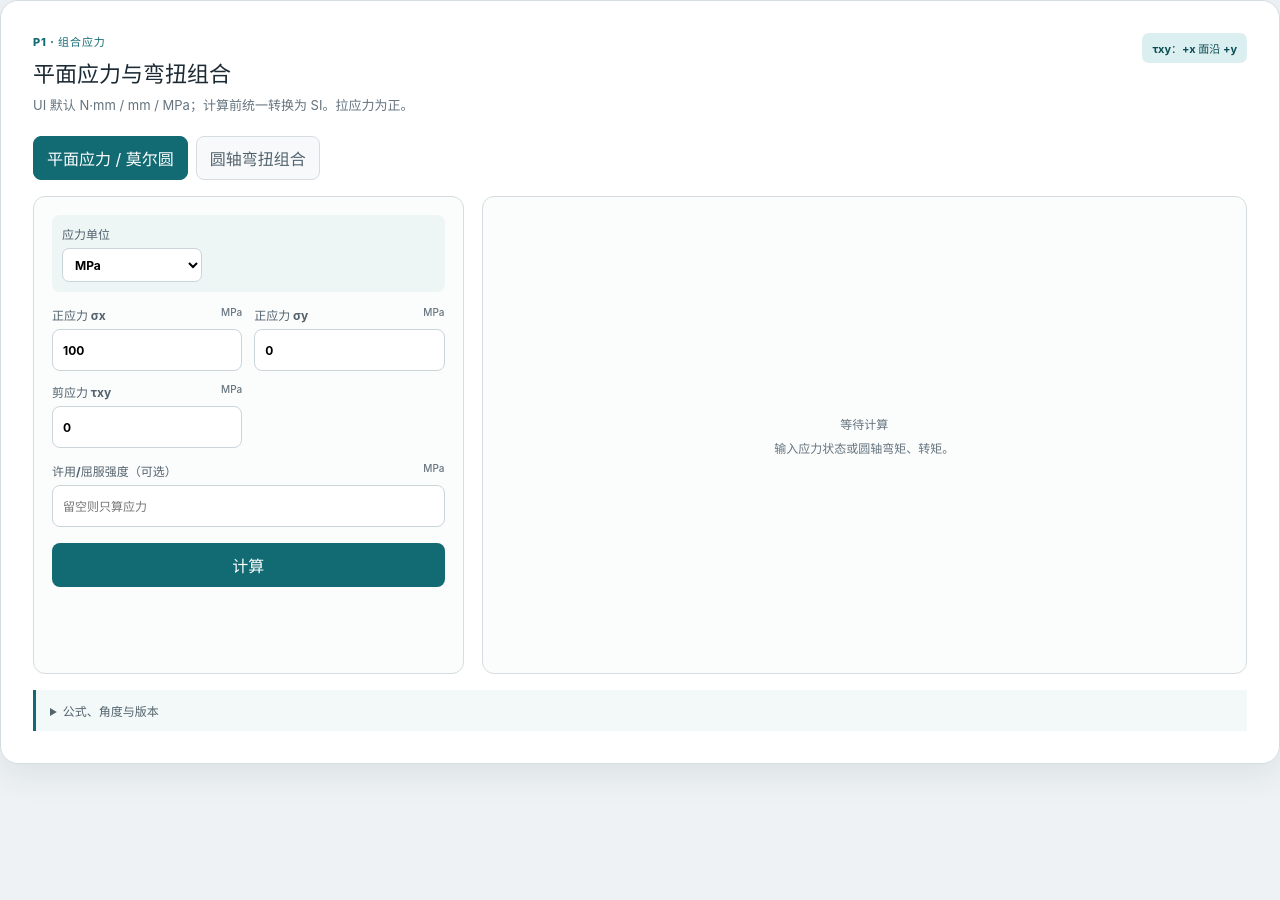
Test case: StressCalculator › shows strength overload and clears results on illegal geometry
The width and height of the screenshot is (1280, 900).
Click the button "圆轴弯扭组合". click: click(258, 158)
box: [196, 136, 320, 180]
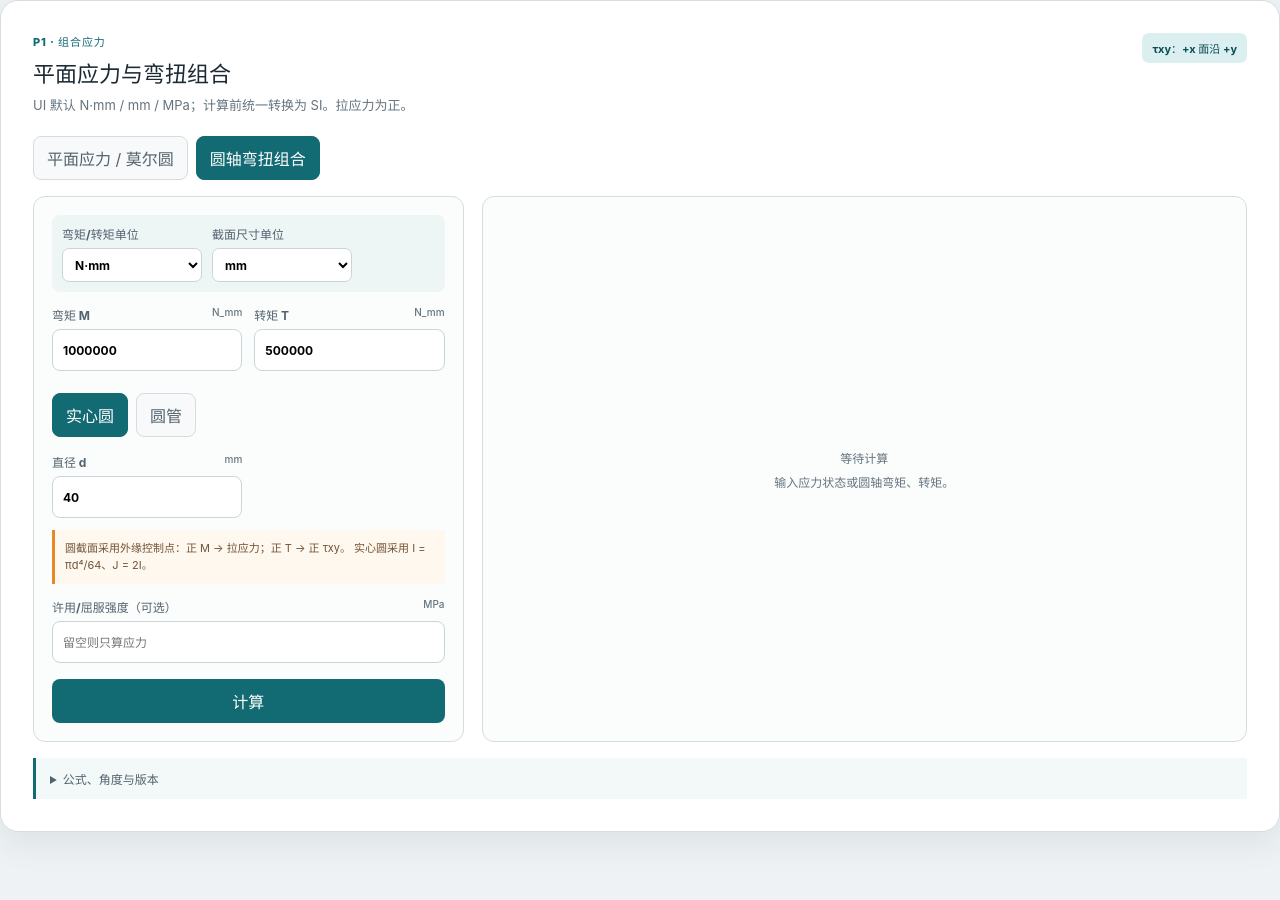
Type "10" into the field labelled "许用/屈服强度（可选） MPa". click: (248, 642)
box: [52, 621, 444, 663]
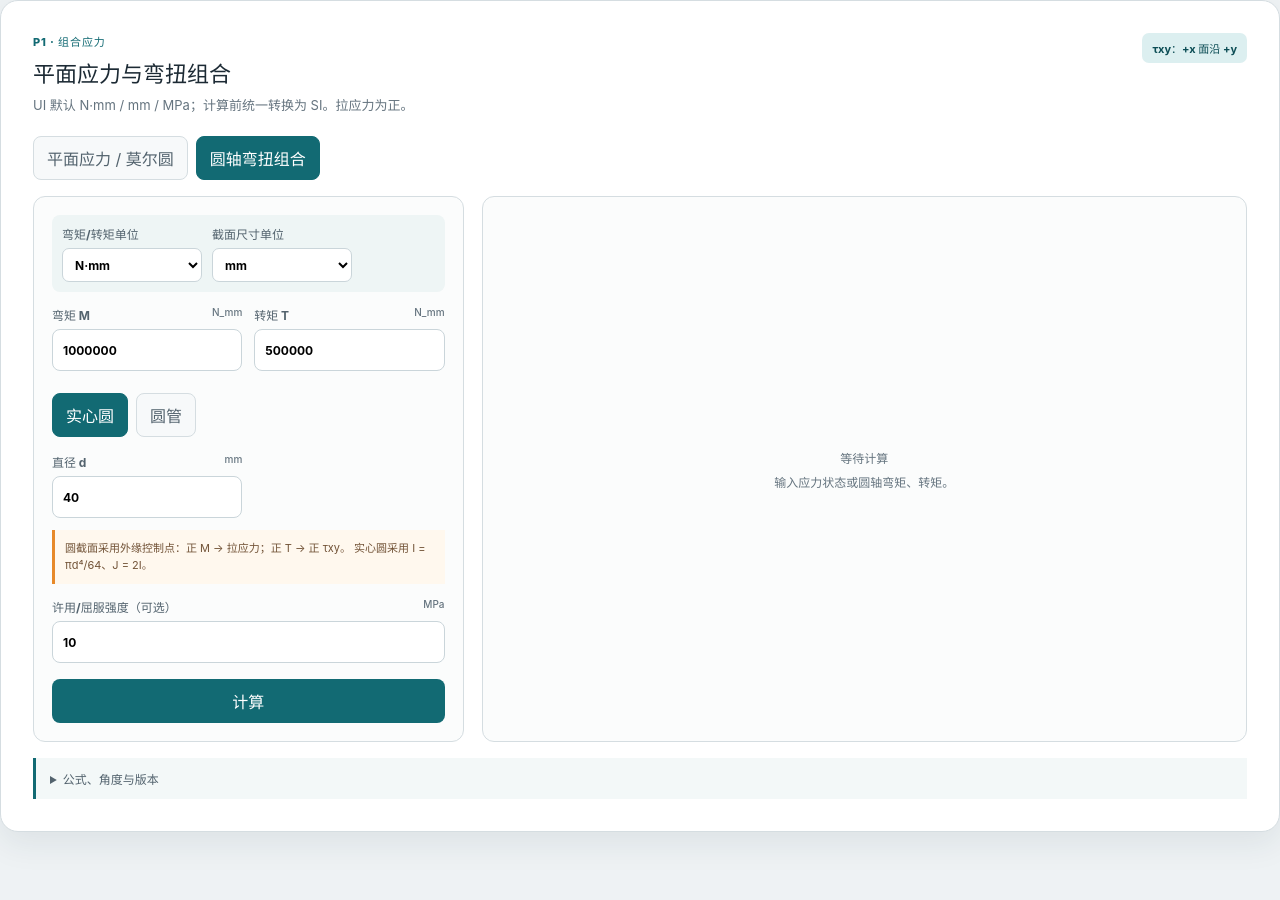
Click the button with class "calculate". click: click(248, 701)
box: [52, 679, 444, 723]
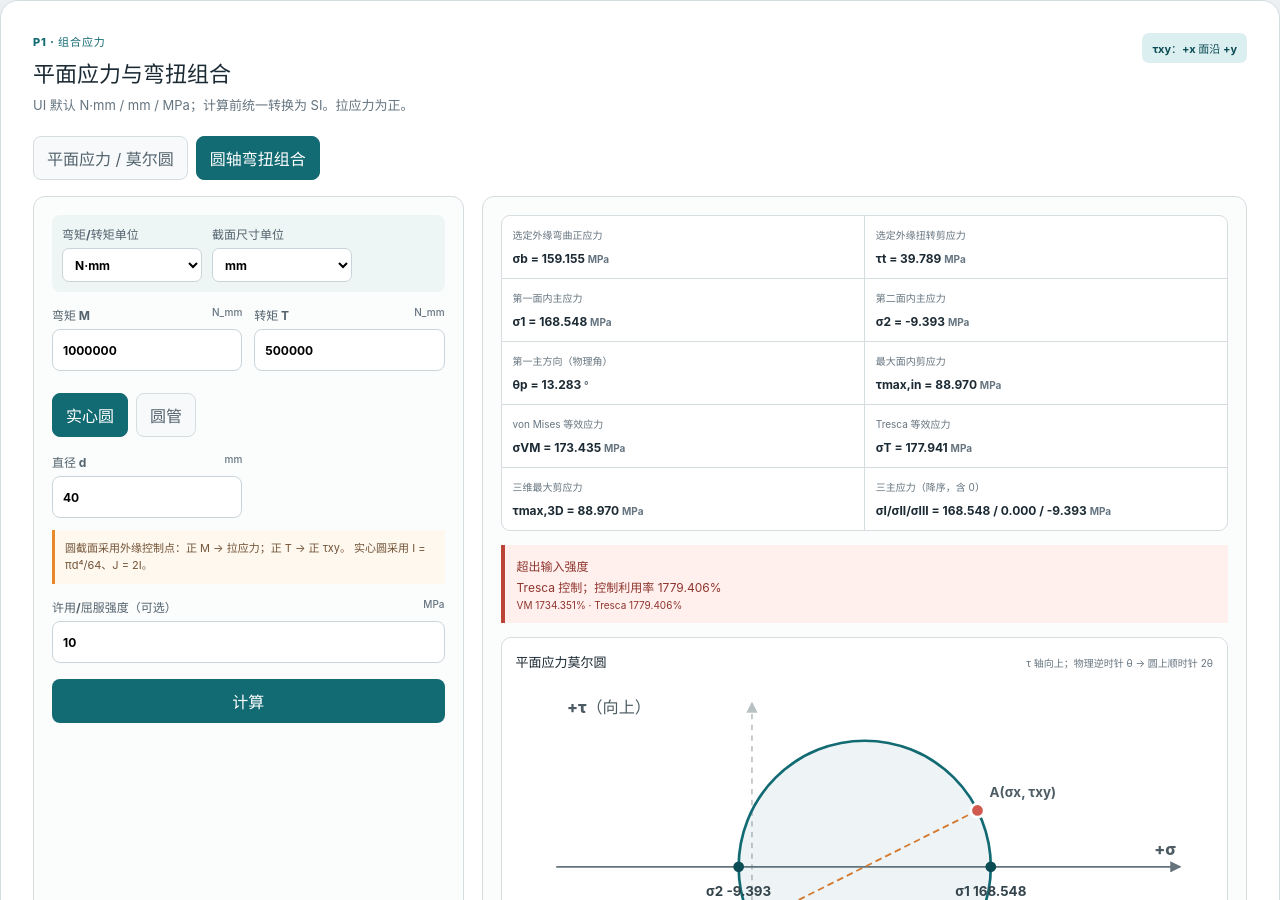
Expected: the text "超出输入强度" is shown, [516, 559, 588, 574]
Replace the text in the field labelled "直径 d mm" with "0". click: (147, 497)
box: [52, 476, 242, 518]
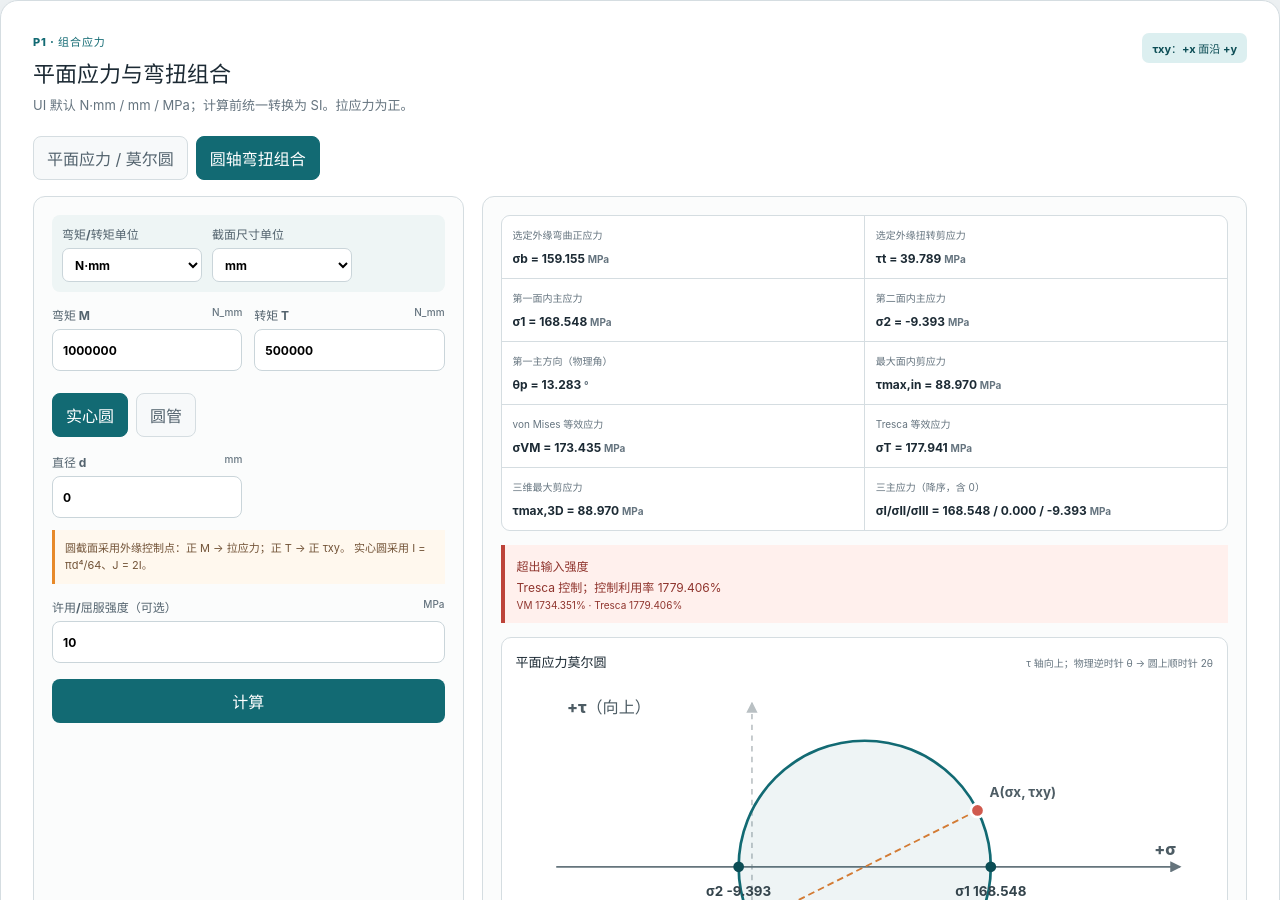
Click the button with class "calculate". click: click(248, 701)
box: [52, 679, 444, 723]
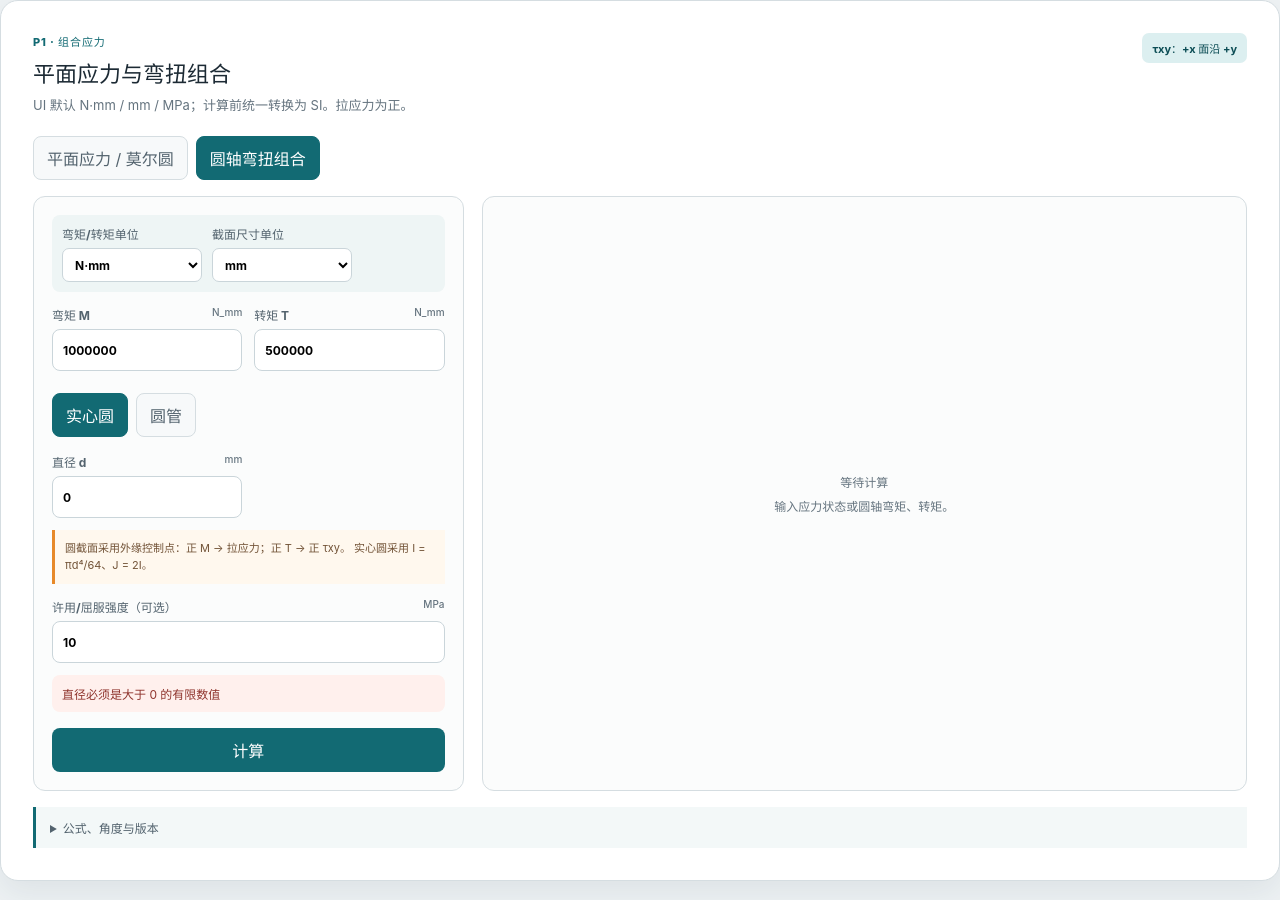
Expected: the text "直径必须是大于 0" is shown, [62, 687, 220, 702]
